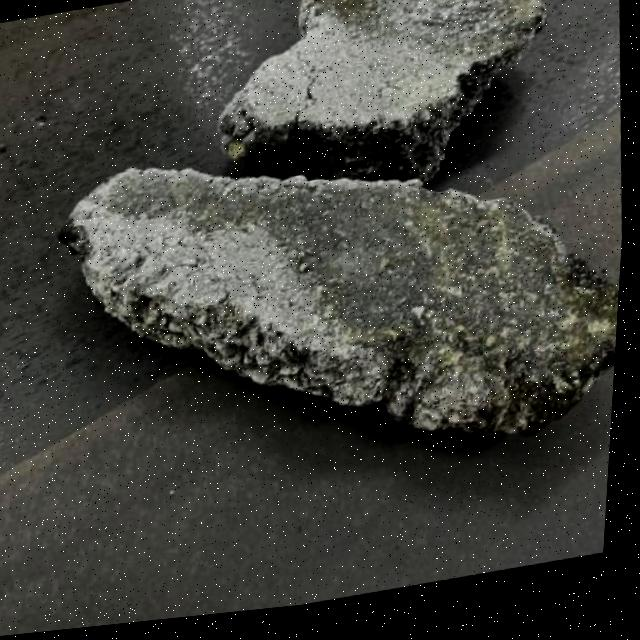Road Debris: (272, 140, 631, 446), (108, 144, 303, 271), (306, 0, 550, 86)
